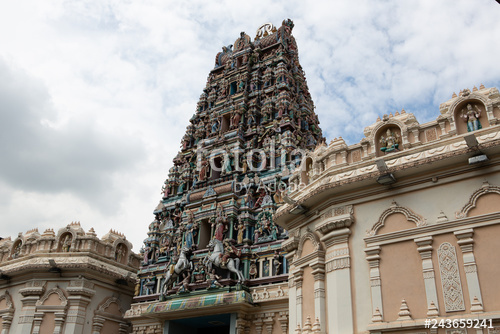Hindu Temple: (144, 24, 315, 285)
